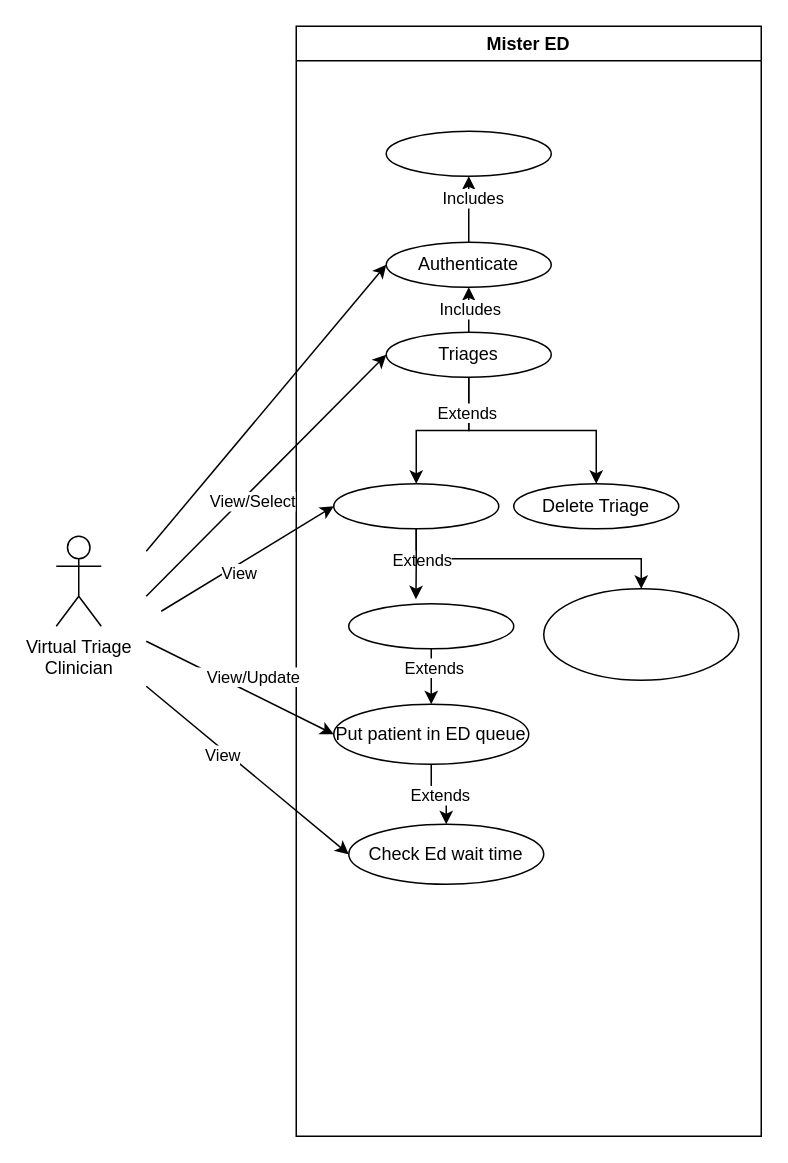
Image size: 788x1163. Some labels were removed from this diagram. Here are the shapes that lost their labels. From the top down, the centre of each, then its label:
At [468,153]: "Register".
At [415,505]: "Review Triage".
At [430,625]: "Refer Patient to ED".
At [640,633]: "Advise patient on next steps (not ED)".
